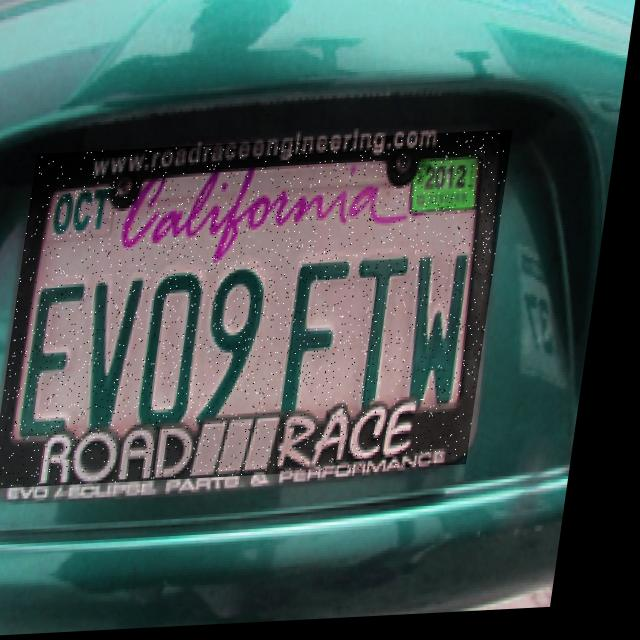license_plate: (4, 135, 518, 490)
